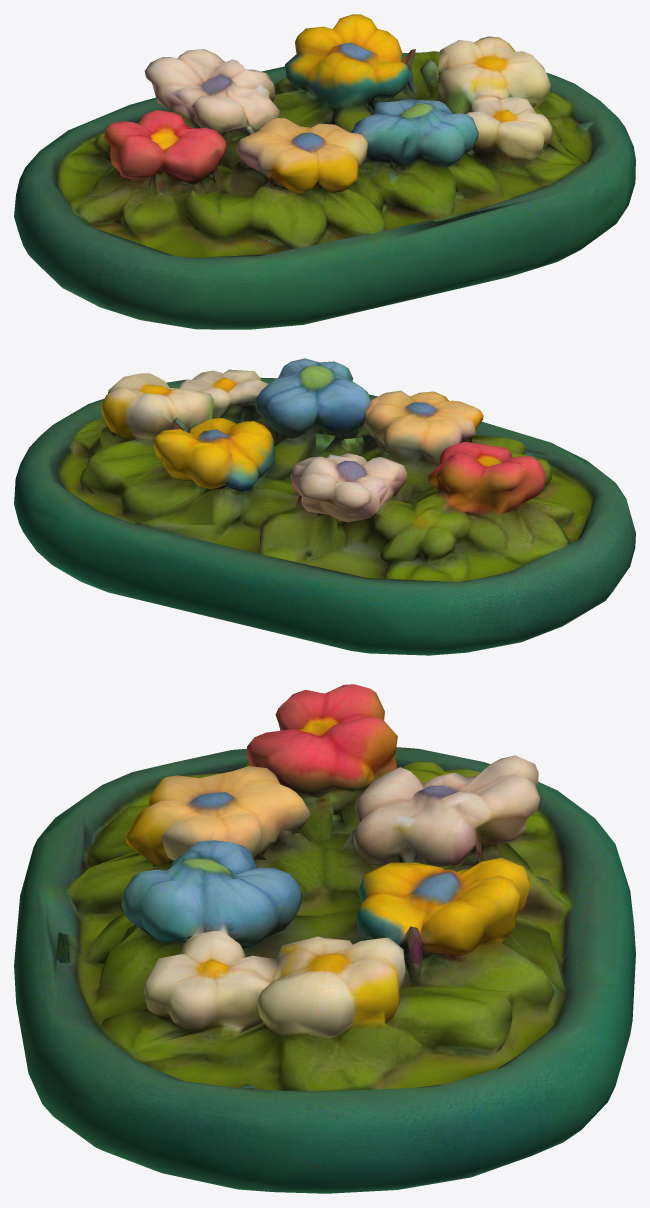
File: prop-flowerbed.glb
3 views of the same model, one above another, from view 1: azimuth 30°, elevation 25°; view 2: azimuth 150°, elevation 25°; view 3: azimuth 270°, elevation 25° (orthographic). The views are drawn at different scales.
Visible parts, largest first — view 1: Mesh_0; view 2: Mesh_0; view 3: Mesh_0.
Part boxes in pixels (x1,y1,x2,y2): Mesh_0: (14,14,635,329); Mesh_0: (14,358,635,655); Mesh_0: (14,684,635,1193).
Size of the model in its own units: 2 by 0.4876 by 1.37.
Materials: 1 (1 with a texture image).
